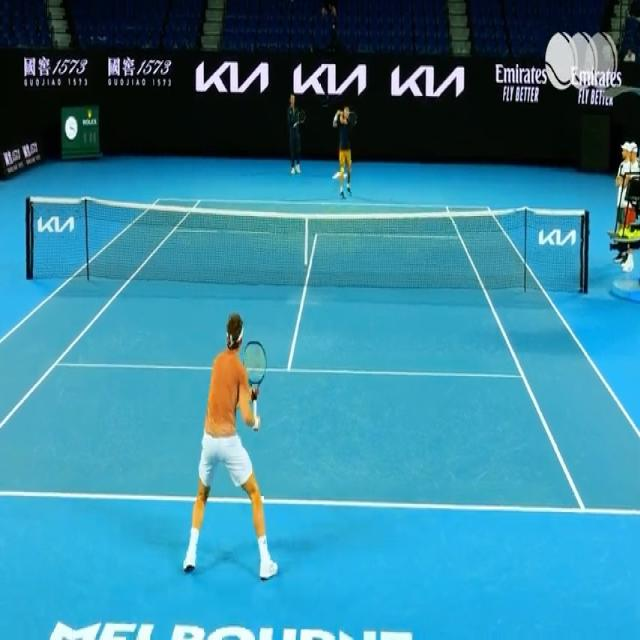ready-position: (183, 312, 279, 578)
